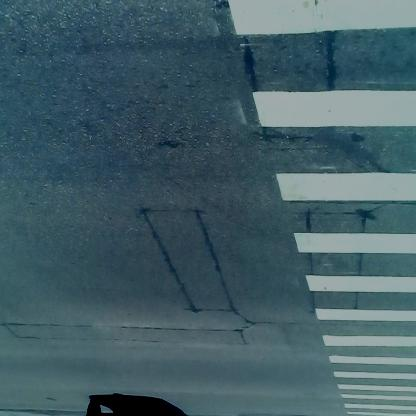crosswalk: (220, 8, 416, 416)
